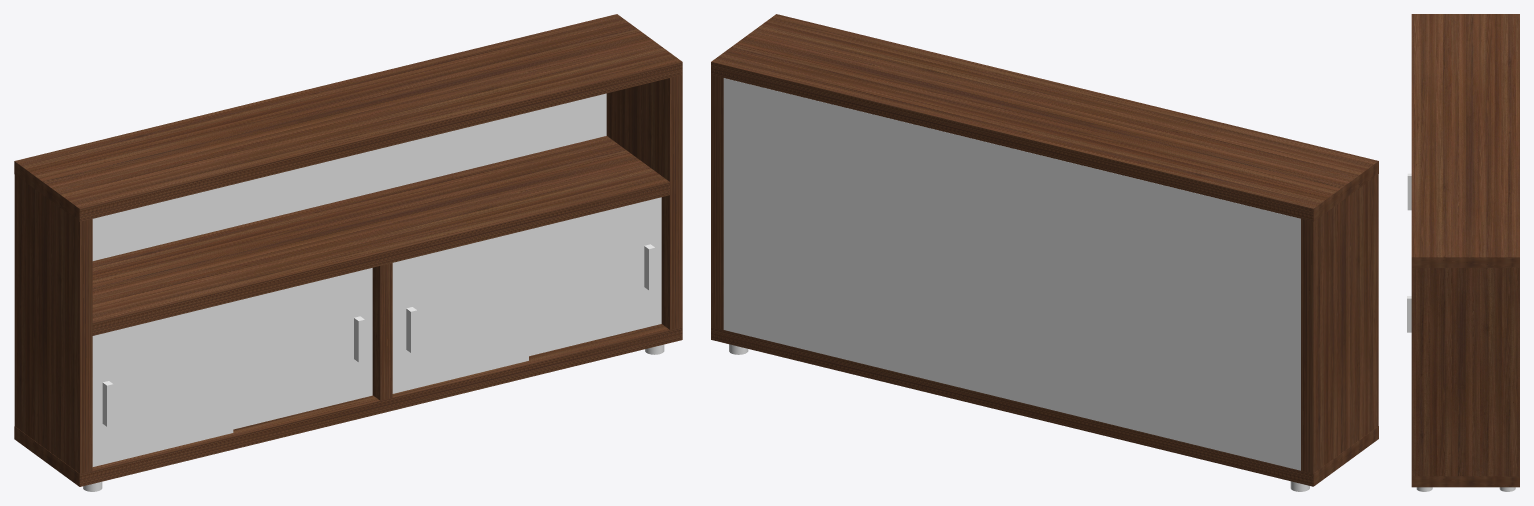
Rendered from Sideboard.FBX.
3 views of the same model, side by side, from view 1: azimuth 30°, elevation 25°; view 2: azimuth 150°, elevation 25°; view 3: azimuth 270°, elevation 25° (orthographic). The views are drawn at different scales.
Visible parts, largest first — view 1: sideboard; view 2: sideboard; view 3: sideboard.
Boxes of the visible parts, x1,y1,x2,y2 form: sideboard: [14, 14, 682, 491]; sideboard: [711, 14, 1378, 491]; sideboard: [1407, 14, 1519, 491].
Size of the model in its own units: 101 by 19.87 by 46.47.
2 materials, 1 textured.
